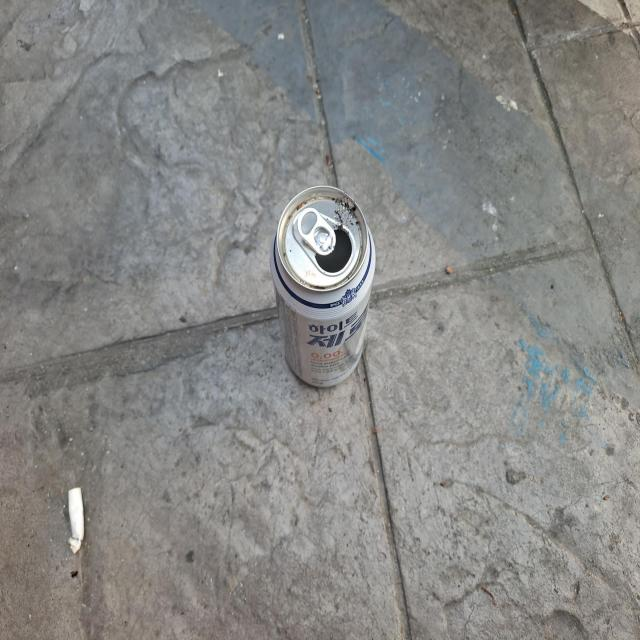can: (270, 185, 376, 387)
